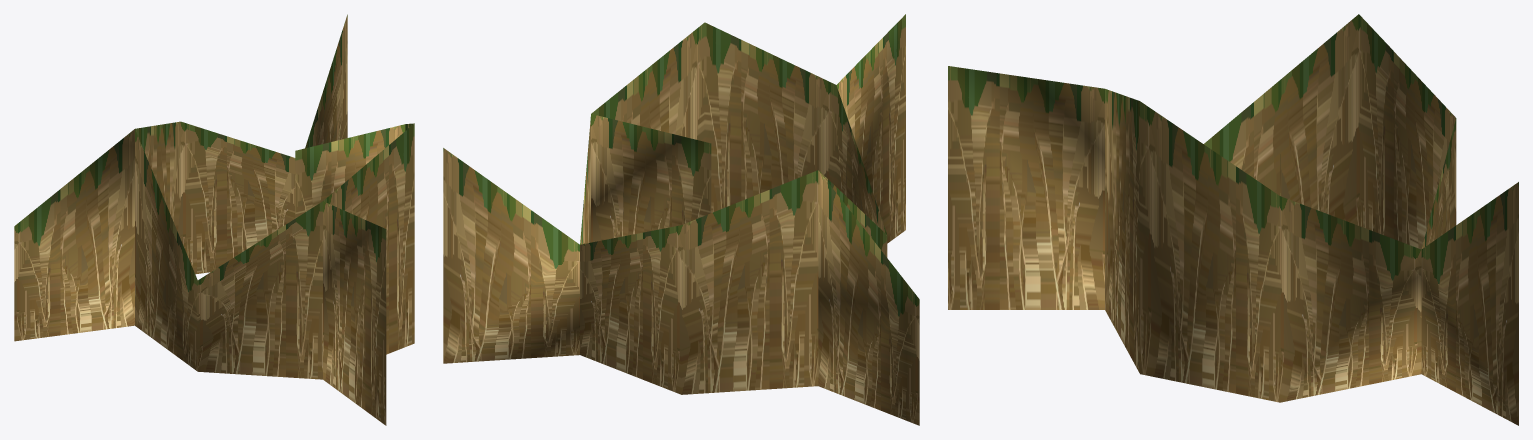
The model's file is mveg1d.glb.
The picture shows the model from 3 angles, left to right: view 1: azimuth 30°, elevation 25°; view 2: azimuth 150°, elevation 25°; view 3: azimuth 270°, elevation 25°; orthographic projection. The views are drawn at different scales.
Parts seen in each view (by area): view 1: _mveg1d; view 2: _mveg1d; view 3: _mveg1d.
Part boxes in pixels (box(x1,y1,x2,y2)): _mveg1d: box(14, 14, 414, 425); _mveg1d: box(443, 14, 919, 425); _mveg1d: box(948, 14, 1518, 425).
Bounding box in the file's own units: 4.71 × 2.58 × 4.89.
Materials: 1 (1 with a texture image).
